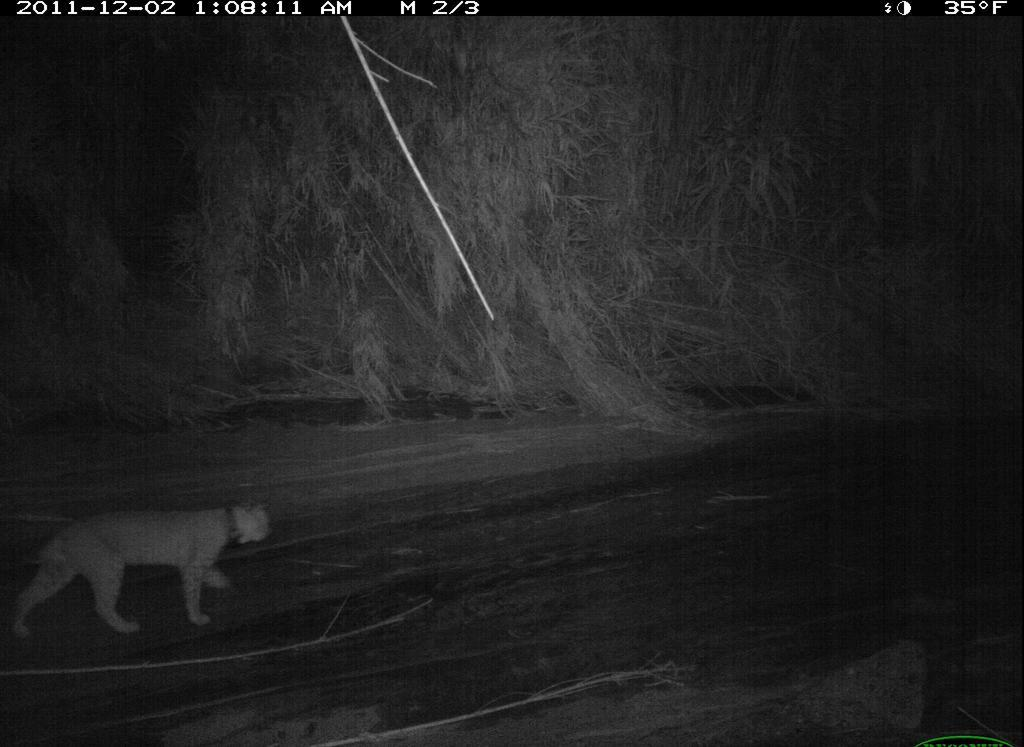bobcat: (3, 493, 287, 651)
